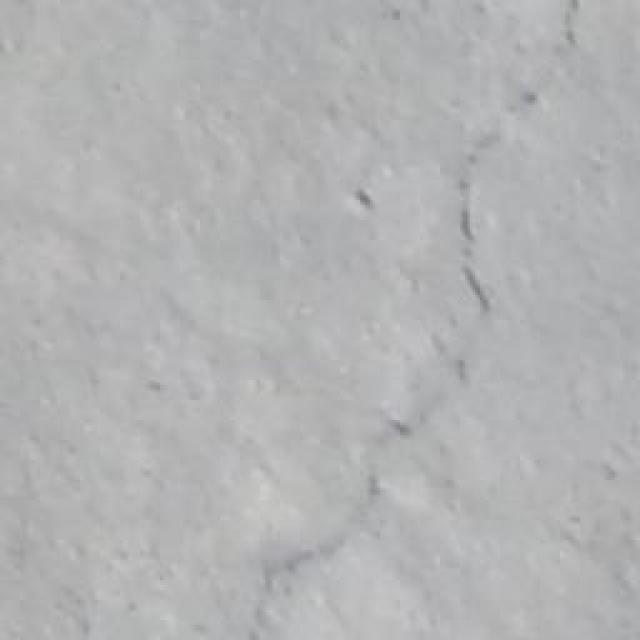concrete-crack: (249, 0, 584, 640)
